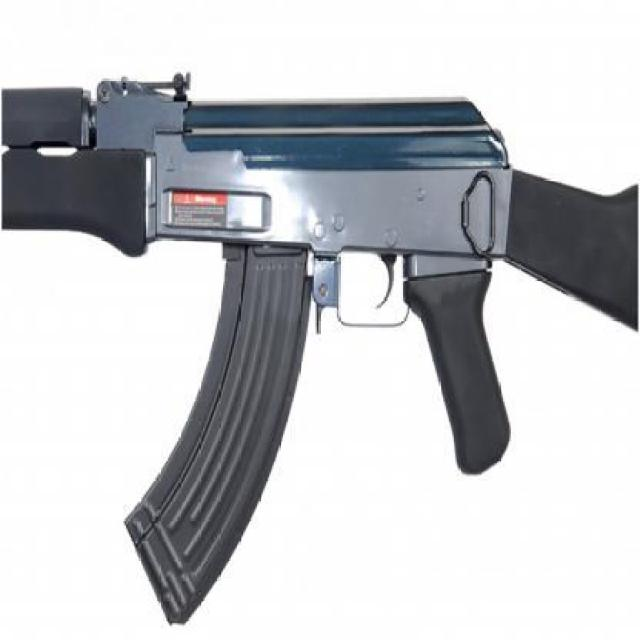weapon: (9, 83, 638, 636)
